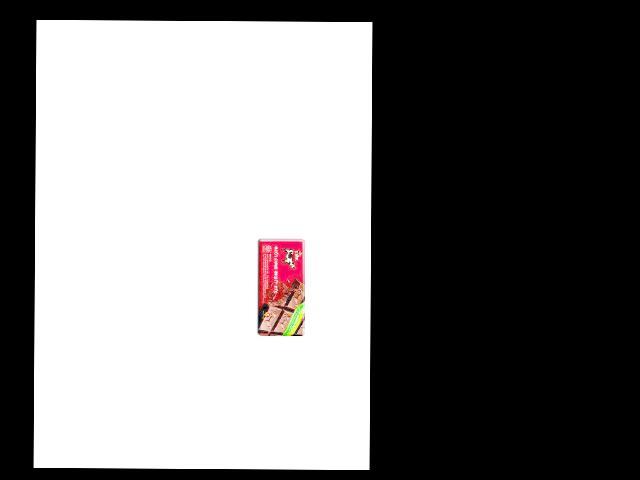chocolate: (252, 235, 306, 336)
